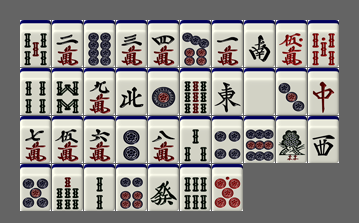0m: (276, 20, 307, 67)
0p: (212, 164, 243, 211)
0s: (308, 20, 339, 67)
1m: (212, 20, 243, 67)
1p: (148, 68, 179, 115)
1s: (276, 116, 307, 163)
1z: (212, 68, 243, 115)
2m: (52, 20, 83, 67)
2p: (116, 116, 147, 163)
2s: (84, 164, 115, 211)
2z: (244, 20, 275, 67)
3m: (116, 20, 147, 67)
3p: (276, 68, 307, 115)
3s: (180, 116, 211, 163)
3z: (308, 116, 339, 163)
4m: (148, 20, 179, 67)
4p: (212, 116, 243, 163)
4s: (20, 68, 51, 115)
4z: (116, 68, 147, 115)
5m: (52, 116, 83, 163)
5p: (20, 164, 51, 211)
5s: (20, 20, 51, 67)
5z: (244, 68, 275, 115)
6m: (84, 116, 115, 163)
6p: (116, 164, 147, 211)
6s: (180, 164, 211, 211)
6z: (148, 164, 179, 211)
7m: (20, 116, 51, 163)
7p: (180, 20, 211, 67)
7s: (52, 164, 83, 211)
7z: (308, 68, 339, 115)
8m: (148, 116, 179, 163)
8p: (84, 20, 115, 67)
8s: (52, 68, 83, 115)
9m: (84, 68, 115, 115)
9p: (244, 116, 275, 163)
9s: (180, 68, 211, 115)
